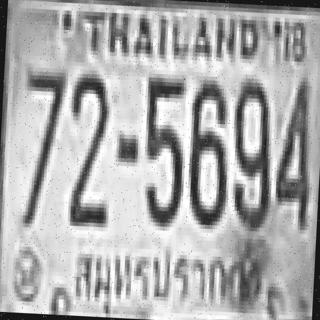N02: (65, 70, 111, 224)
N04: (272, 74, 313, 224)
N05: (139, 74, 187, 224)
N06: (184, 76, 230, 226)
N07: (18, 67, 64, 225), (20, 67, 64, 174)
N09: (227, 76, 274, 226)
P57: (71, 240, 265, 310)
